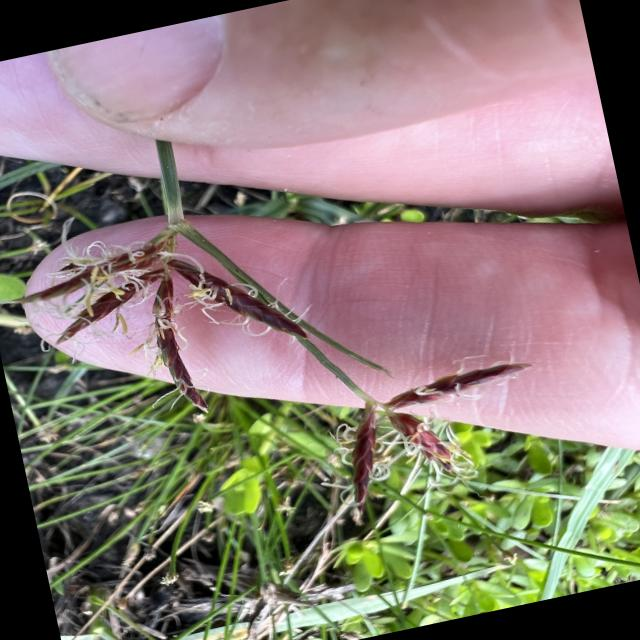cyperus: (12, 140, 546, 571)
